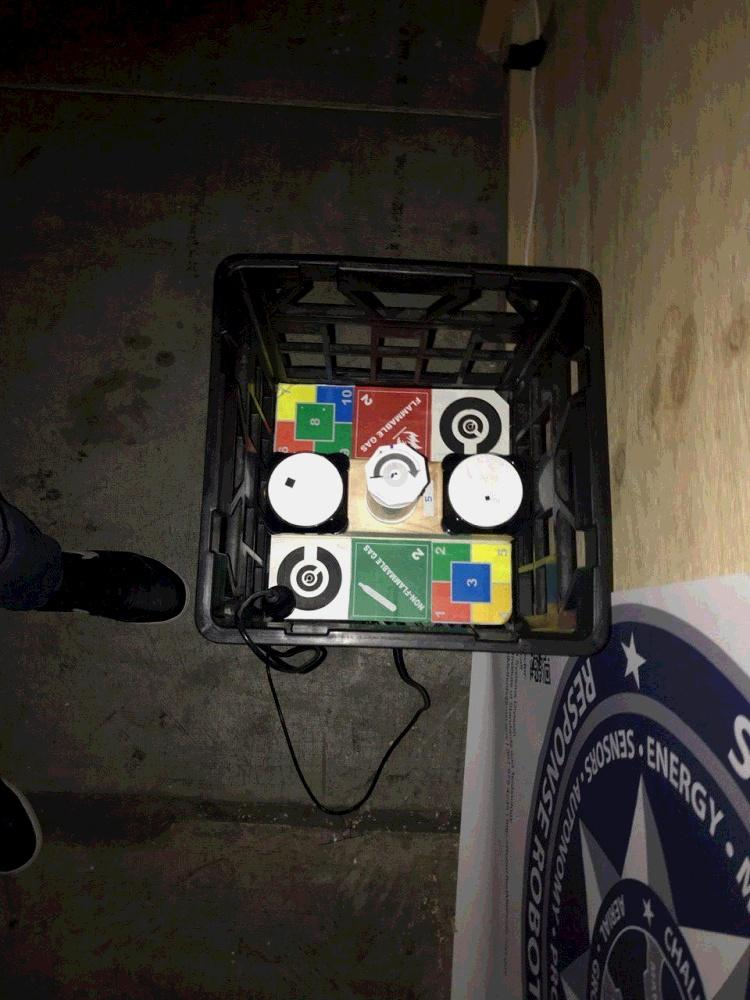flammable: (352, 386, 430, 457)
non-flammable-gas: (350, 540, 428, 618)
